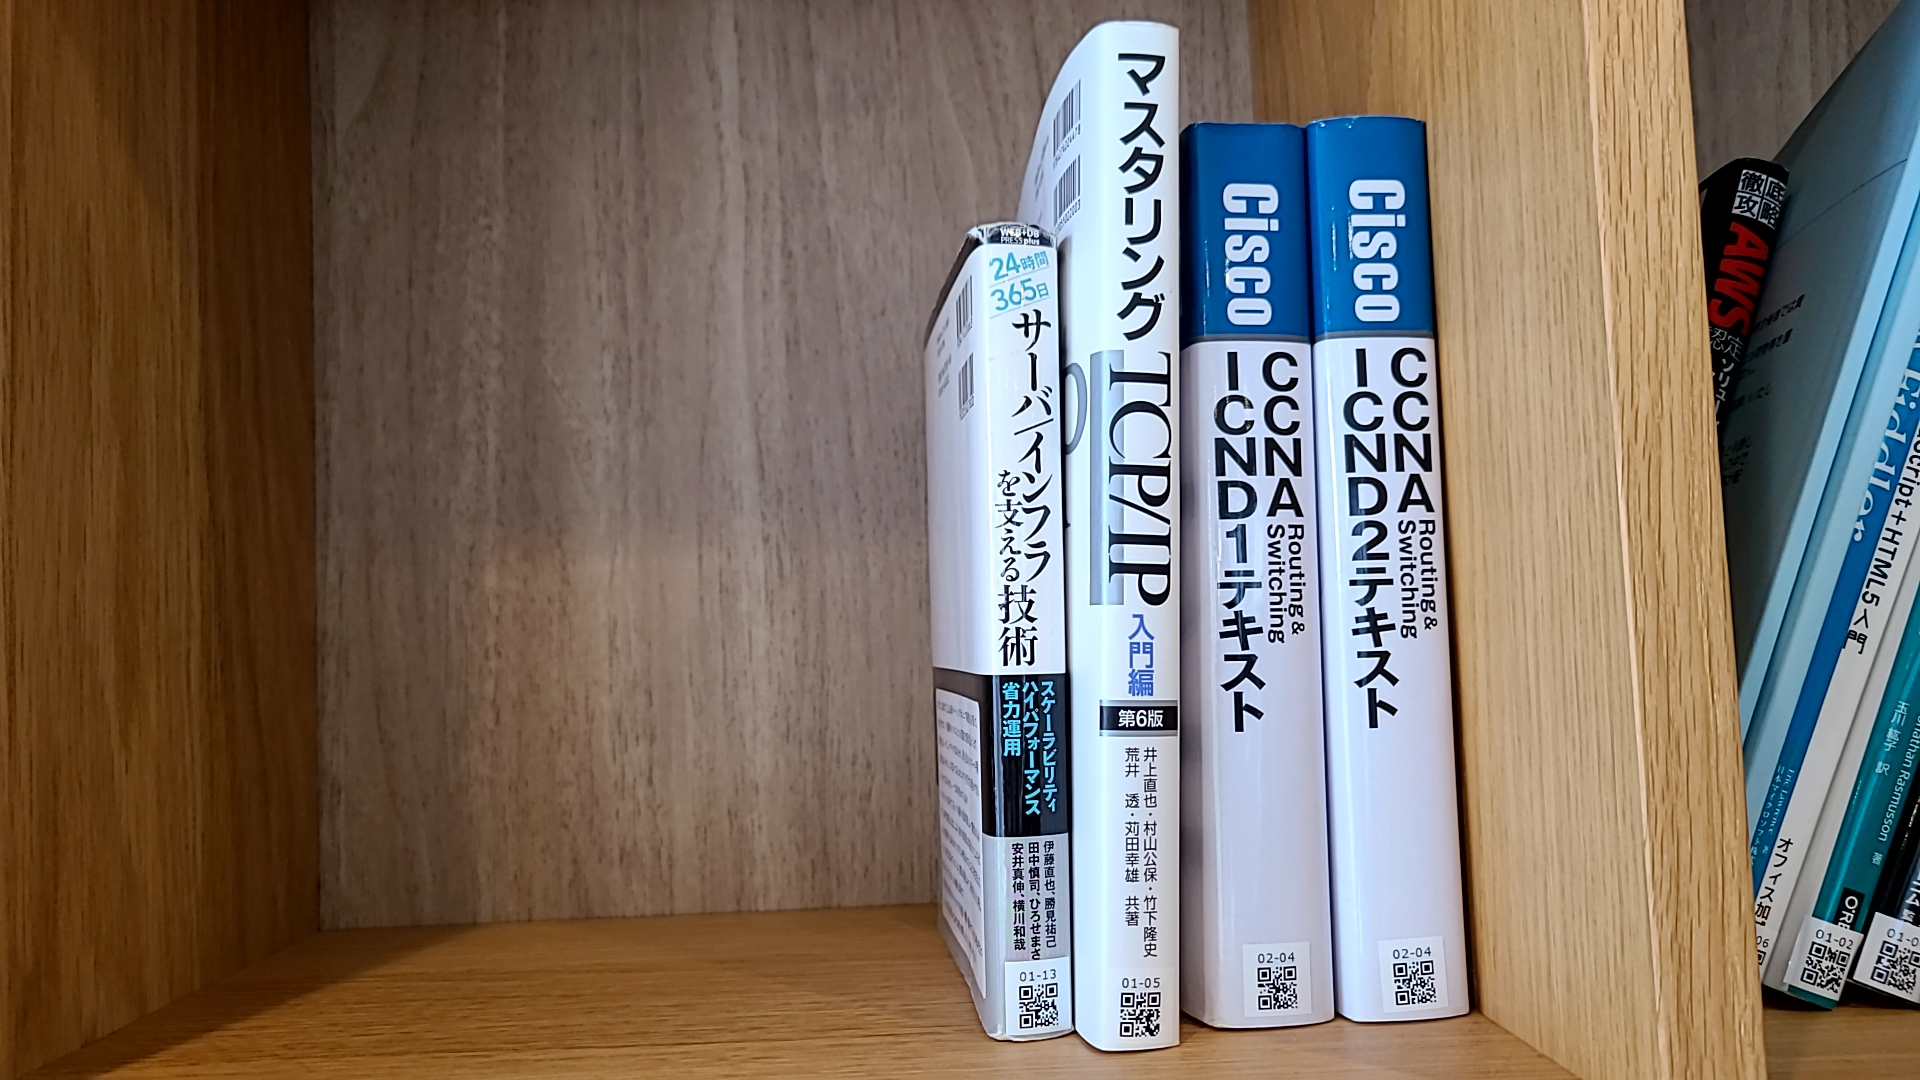book: (1309, 104, 1476, 1021), (1178, 117, 1340, 1042), (1075, 16, 1197, 1054), (963, 207, 1091, 1054)
